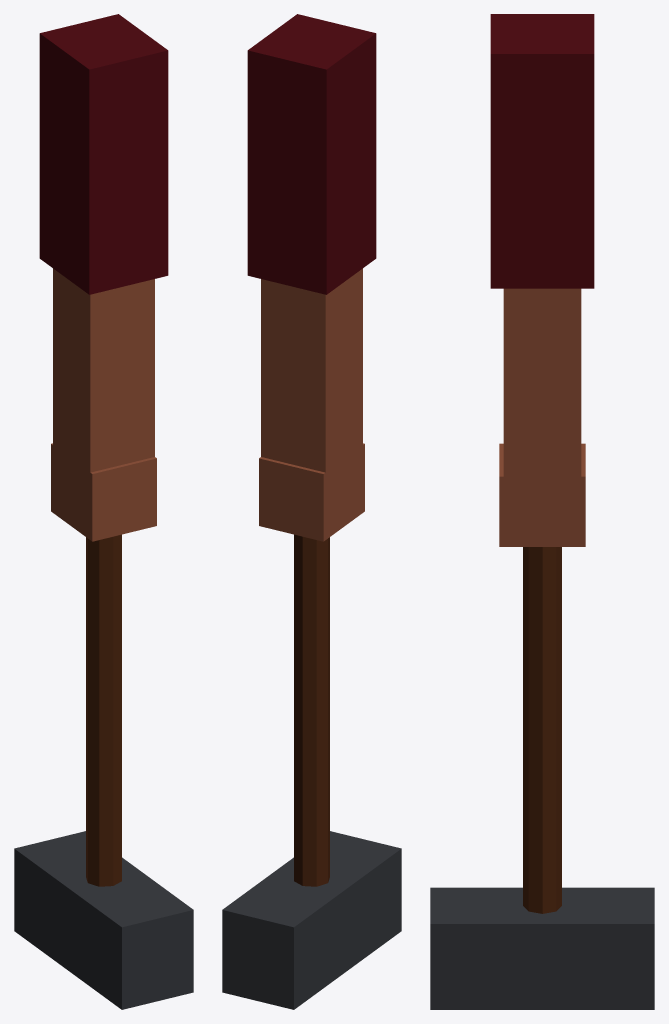
File: obrero_ipn_brazo.obj
The picture shows the model from 3 angles, left to right: view 1: azimuth 30°, elevation 25°; view 2: azimuth 150°, elevation 25°; view 3: azimuth 270°, elevation 25°; orthographic projection. The views are drawn at different scales.
Parts seen in each view (by area): view 1: obrero_ipn_brazo.001; view 2: obrero_ipn_brazo.001; view 3: obrero_ipn_brazo.001.
Boxes of the visible parts, x1,y1,x2,y2 form: obrero_ipn_brazo.001: [14, 14, 193, 1009]; obrero_ipn_brazo.001: [222, 14, 401, 1009]; obrero_ipn_brazo.001: [430, 14, 654, 1009].
Bounding box in the file's own units: 0.11 × 1.23 × 0.26.
